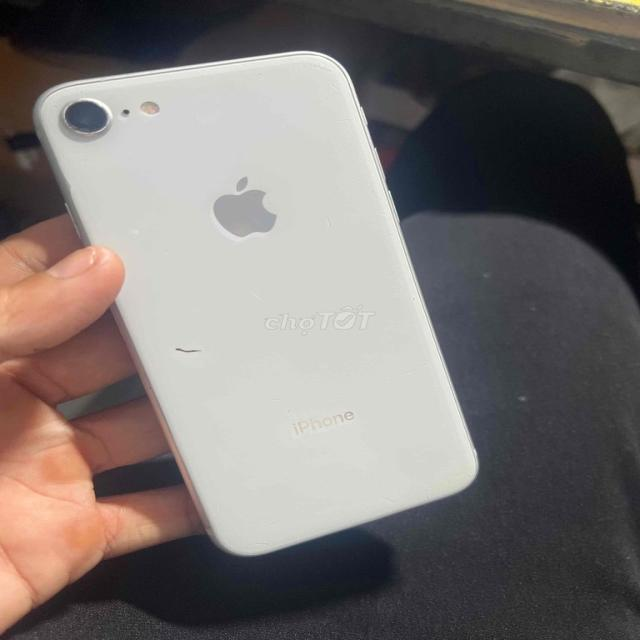gen_7_8: (32, 44, 488, 564)
